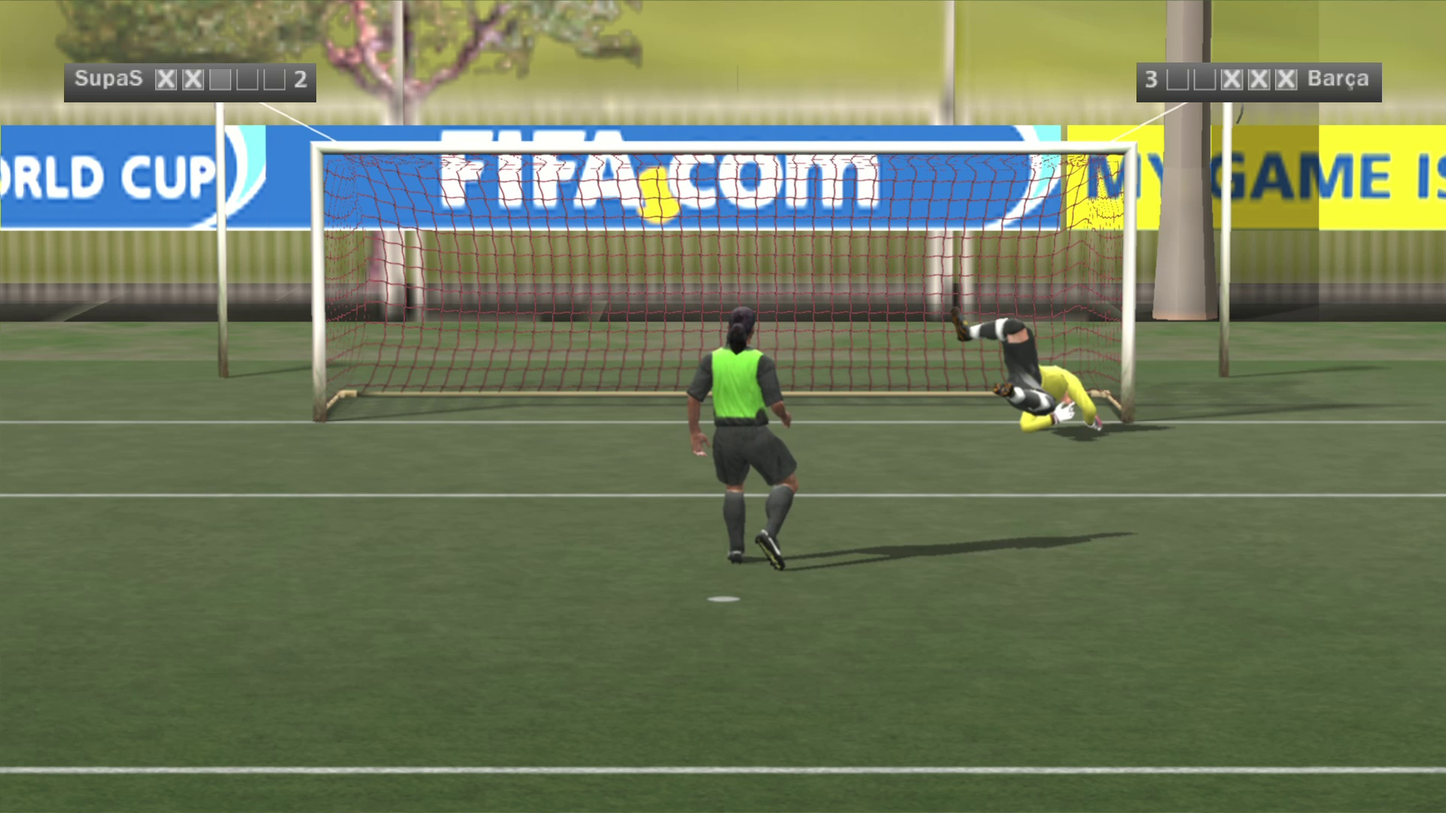goal_post: (0, 23, 719, 291)
keeper: (872, 256, 1028, 375)
kicker: (631, 174, 738, 436)
